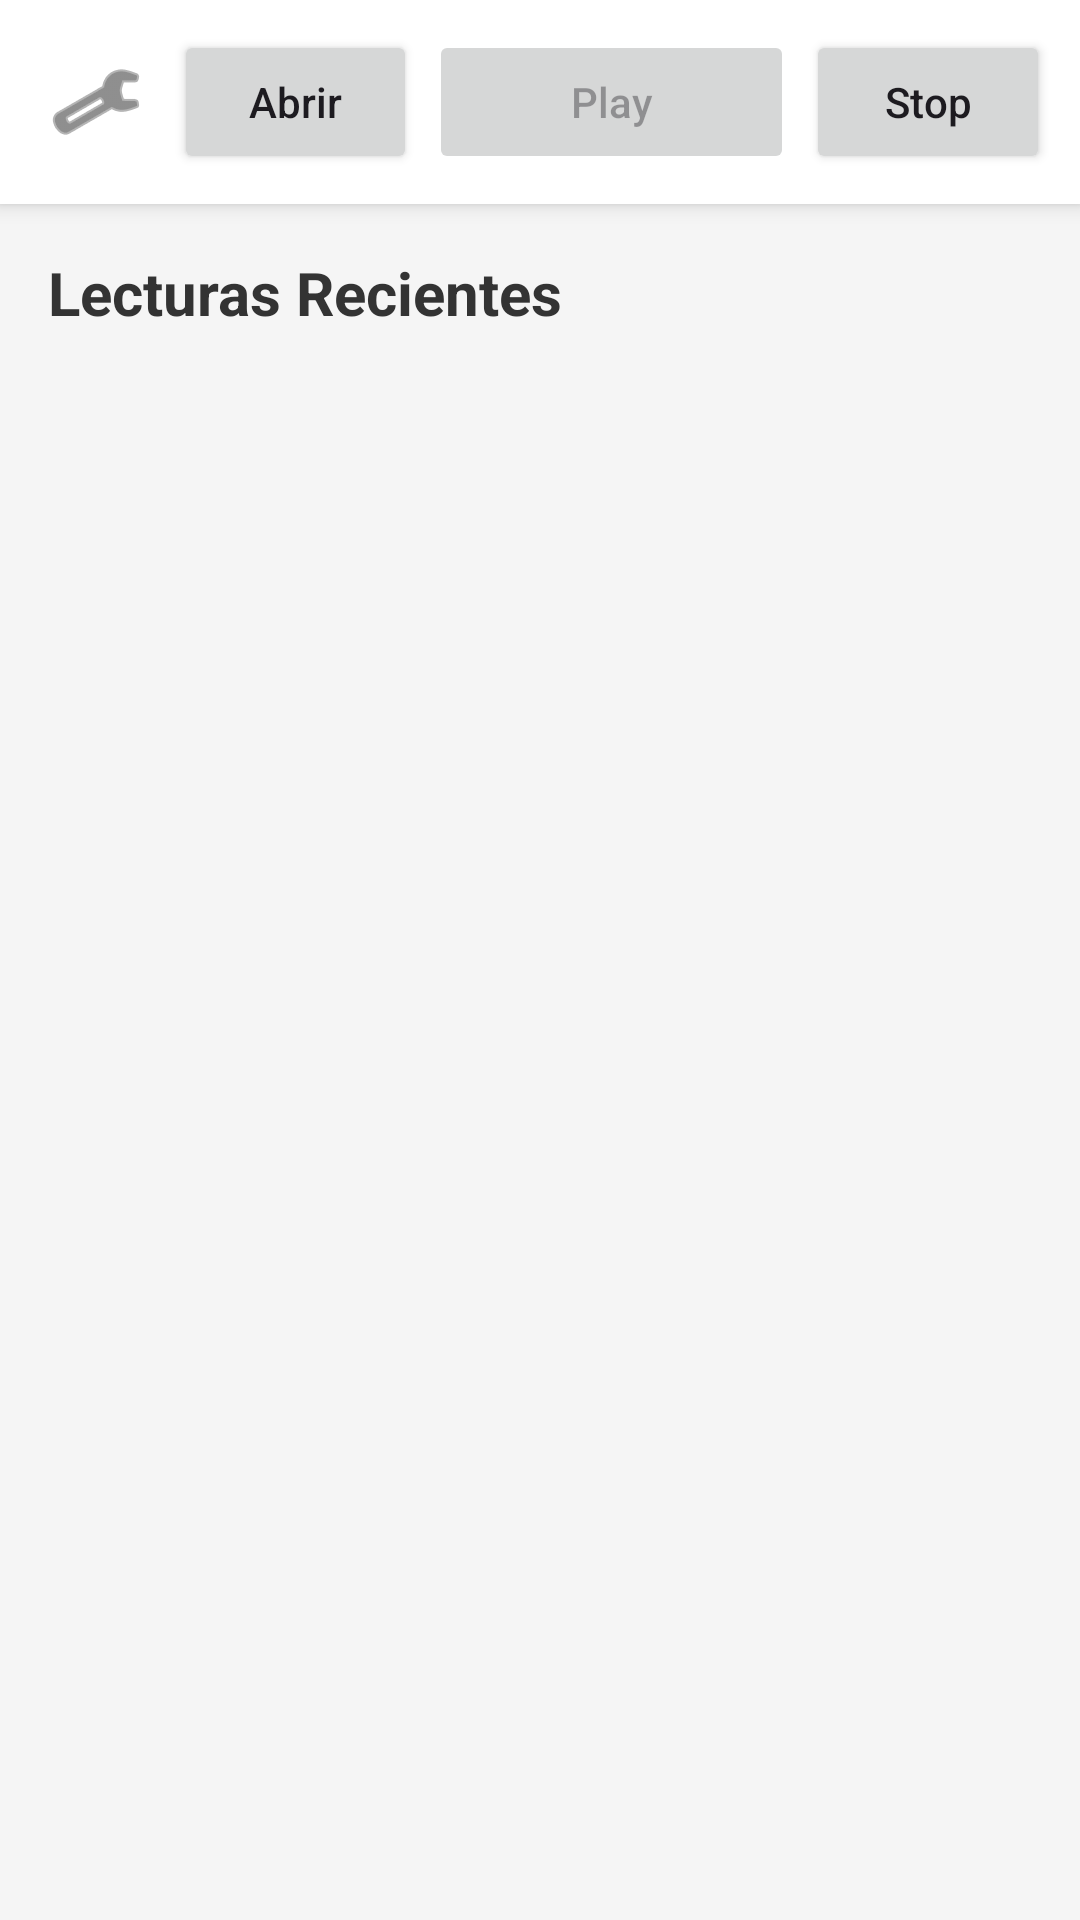

Where icons sit on this 1080x1920 app screen, as rect(x1, y1, x2, y2):
Ajustes de voz: rect(53, 69, 139, 135)
